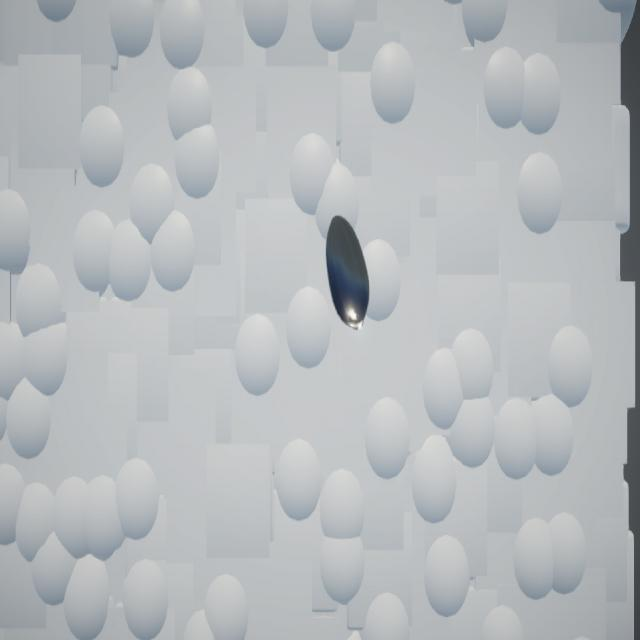top_spoon: (327, 216, 371, 332)
